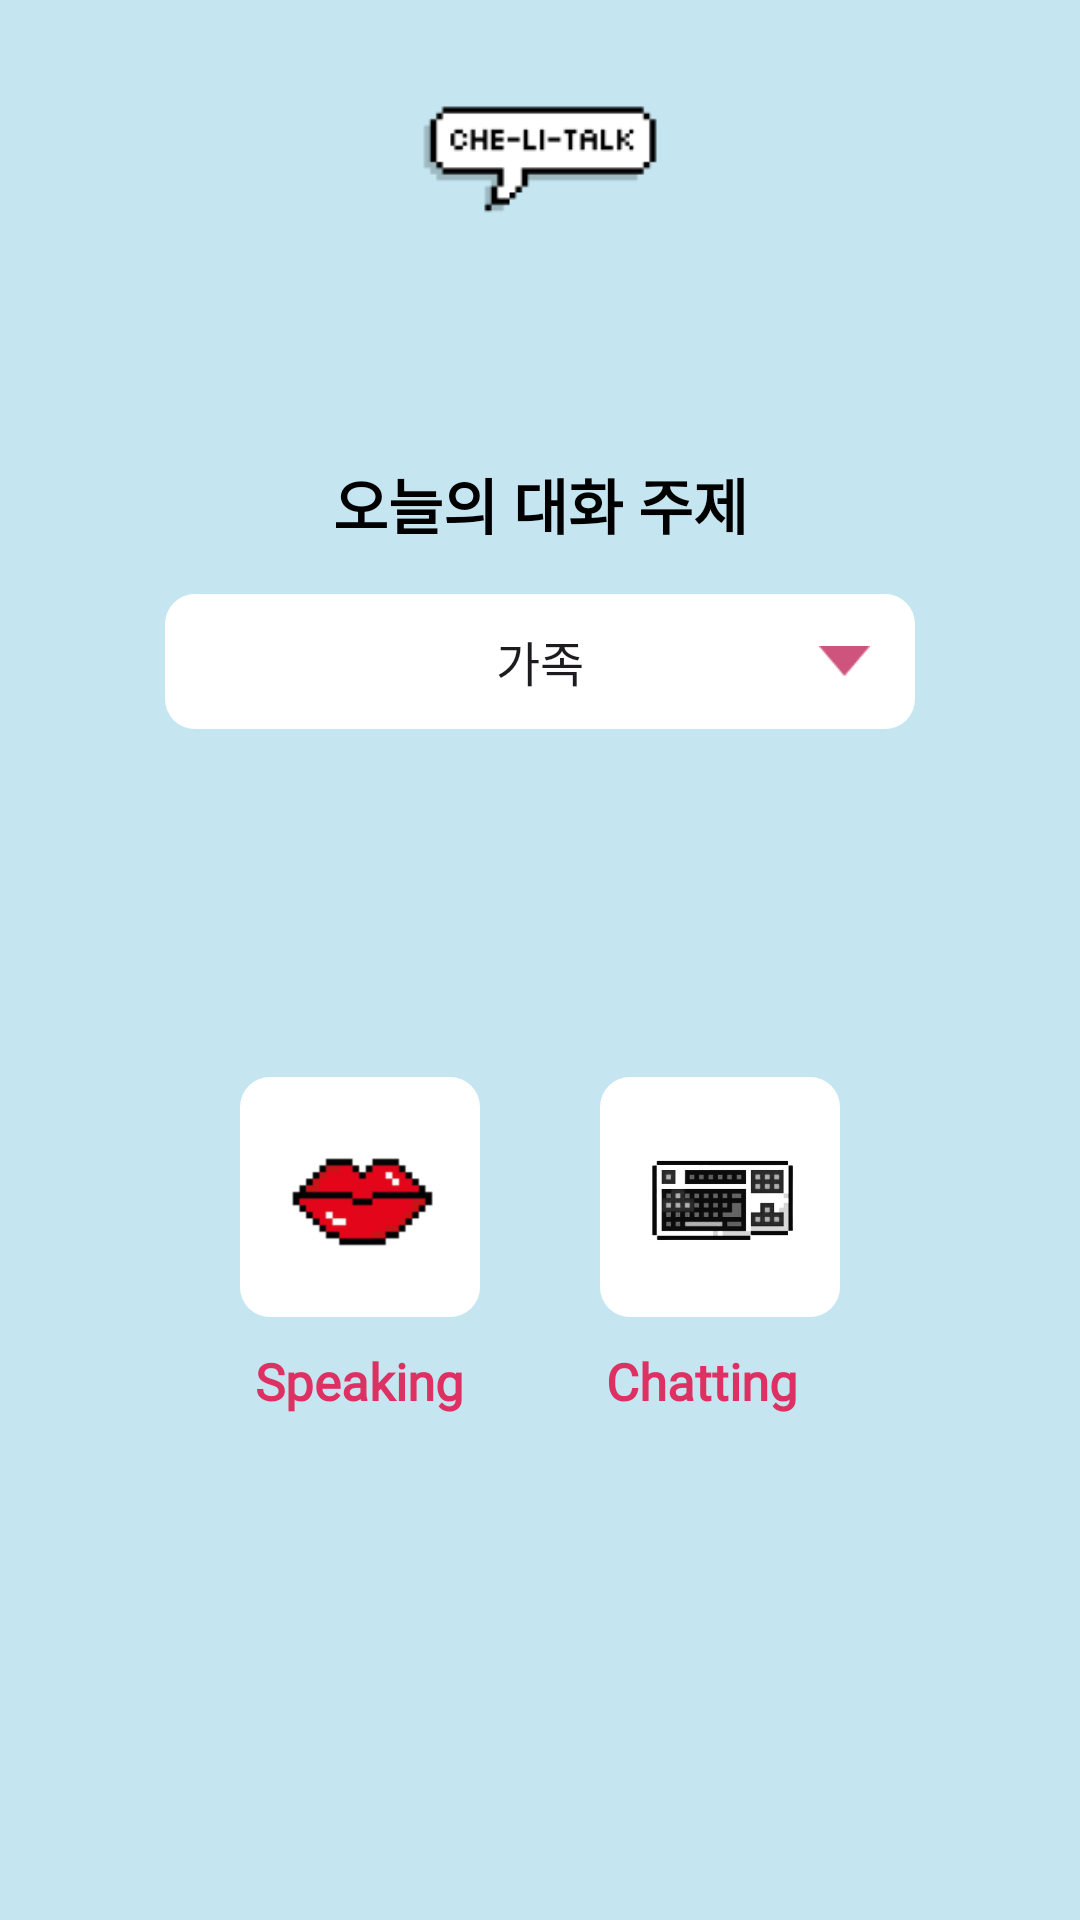

Icon bounding boxes for this 1080px x 1920px phone screenshot, format bbox(x1, y1, x2, y2):
keyboard: bbox(600, 1077, 840, 1317)
lips: bbox(240, 1077, 480, 1317)
